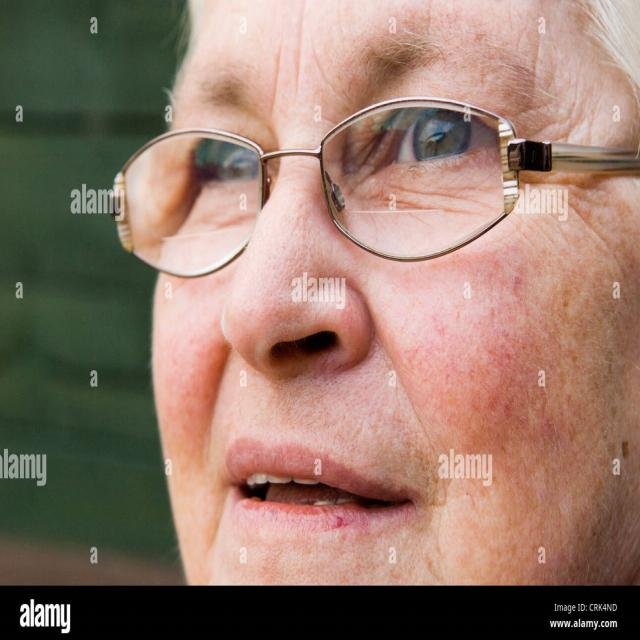Glasses: (106, 87, 640, 284)
